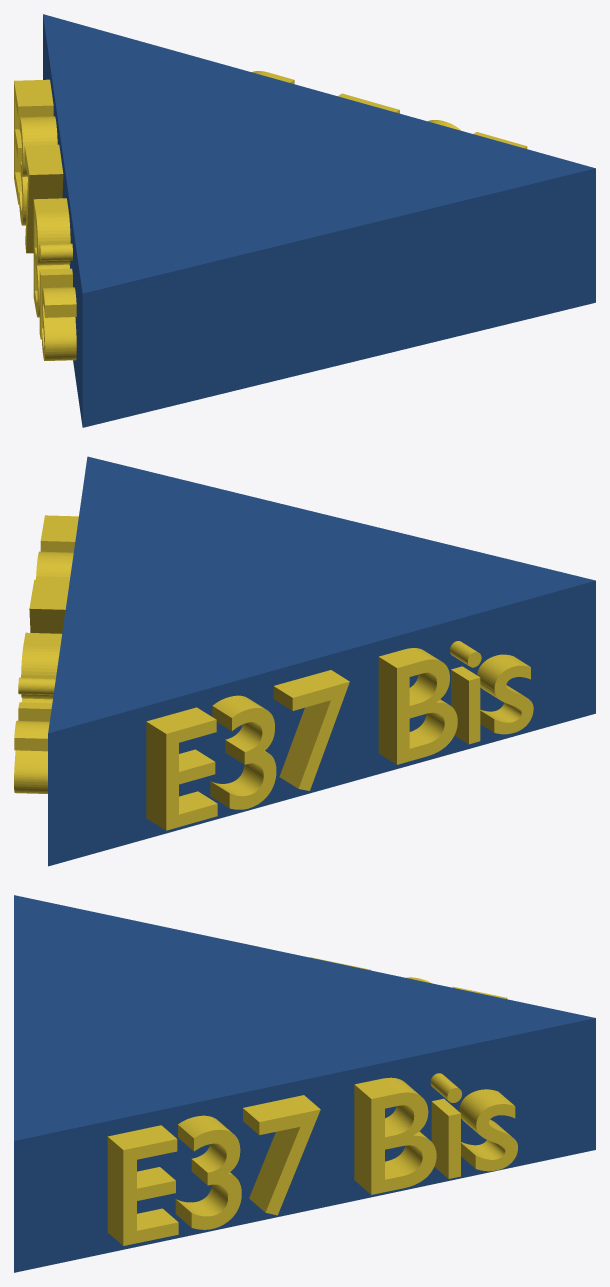
The model's file is E37_Bis.fbx.
3 views of the same model, one above another, from view 1: azimuth 30°, elevation 25°; view 2: azimuth 150°, elevation 25°; view 3: azimuth 270°, elevation 25° (orthographic).
Parts seen in each view (by area): view 1: Cube, Text.001, Text; view 2: Cube, Text.001, Text; view 3: Cube, Text.
Part boxes in pixels (bbox=[...]): Cube: bbox=[43, 14, 595, 427]; Text.001: bbox=[14, 79, 76, 360]; Text: bbox=[252, 71, 527, 148]; Cube: bbox=[48, 456, 595, 866]; Text.001: bbox=[146, 641, 533, 830]; Text: bbox=[14, 515, 78, 793]; Cube: bbox=[14, 895, 595, 1272]; Text: bbox=[107, 1073, 517, 1245].
Size of the model in its own units: 63.36 by 15.84 by 63.36.
